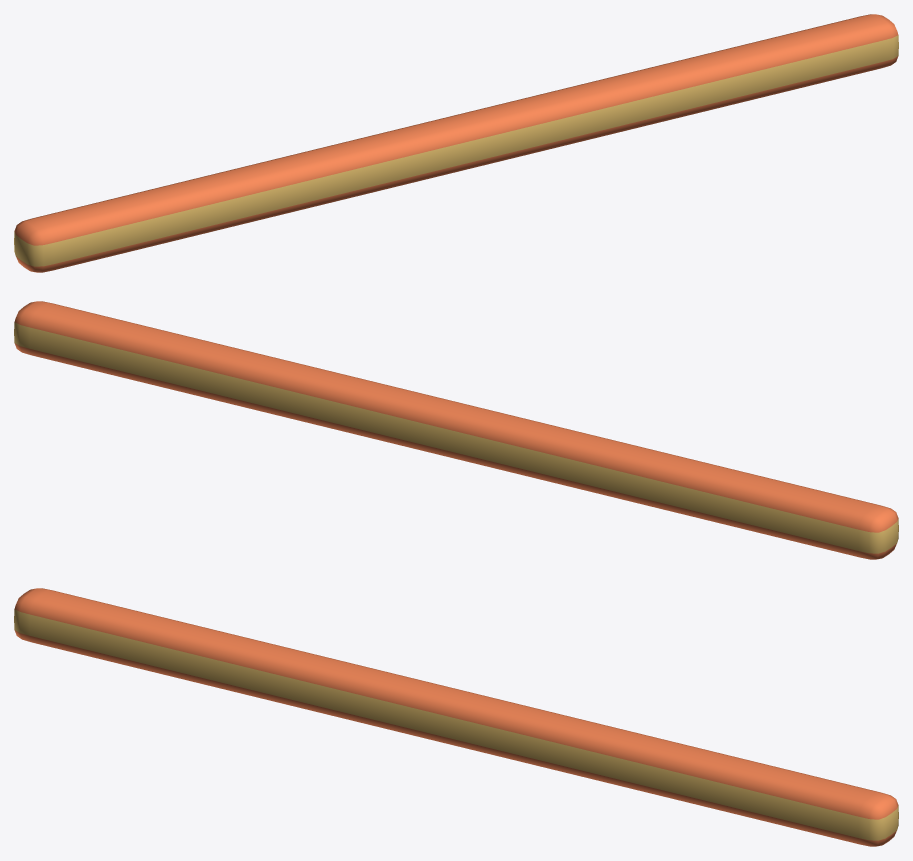
The model's file is color_park_wall.fbx.
3 renders of one model, top to bottom at view 1: azimuth 30°, elevation 25°; view 2: azimuth 150°, elevation 25°; view 3: azimuth 330°, elevation 25°, orthographic.
Visible parts, largest first — view 1: Cube, Cube.001, Cube.003; view 2: Cube, Cube.001, Cube.003; view 3: Cube, Cube.003, Cube.001.
Part boxes in pixels (bbox=[...]): Cube: bbox=[54, 21, 861, 265]; Cube.001: bbox=[14, 213, 75, 272]; Cube.003: bbox=[841, 14, 898, 73]; Cube: bbox=[51, 308, 858, 552]; Cube.001: bbox=[837, 500, 898, 559]; Cube.003: bbox=[14, 301, 71, 360]; Cube: bbox=[51, 595, 858, 839]; Cube.003: bbox=[837, 787, 898, 846]; Cube.001: bbox=[14, 588, 71, 647].
Size of the model in its own units: 4090 by 200 by 200.
